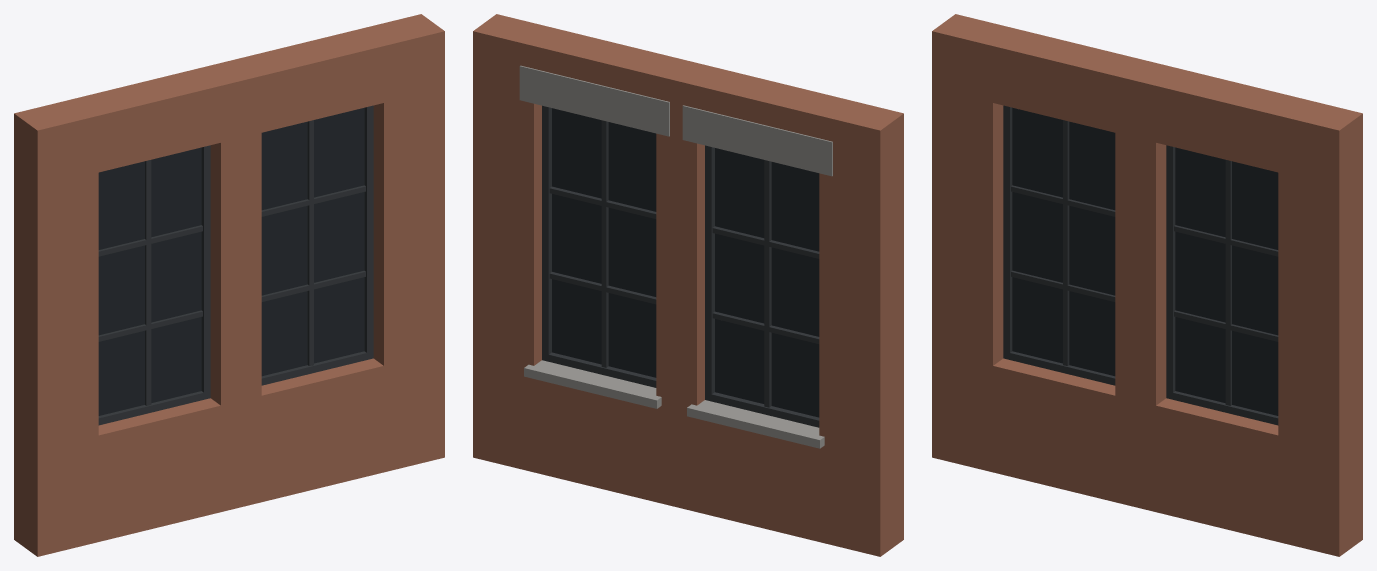
Rendered from SM_VB_FacB_WindowPair.fbx.
3 views of the same model, side by side, from view 1: azimuth 30°, elevation 25°; view 2: azimuth 150°, elevation 25°; view 3: azimuth 330°, elevation 25° (orthographic).
Parts seen in each view (by area): view 1: SM_VB_FacB_WindowPair; view 2: SM_VB_FacB_WindowPair; view 3: SM_VB_FacB_WindowPair.
Boxes of the visible parts, x1=… form: SM_VB_FacB_WindowPair: x1=14, y1=14, x2=444, y2=556; SM_VB_FacB_WindowPair: x1=473, y1=14, x2=903, y2=556; SM_VB_FacB_WindowPair: x1=932, y1=14, x2=1362, y2=556.
Bounding box in the file's own units: 3 × 3 × 0.36.
